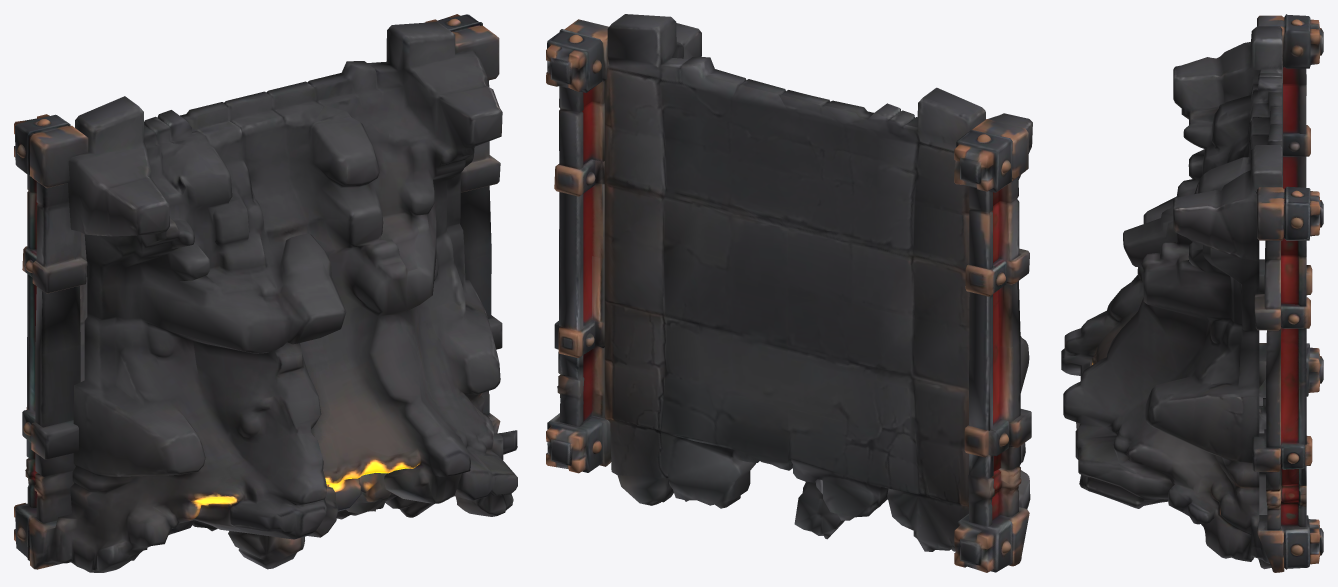
The picture shows the model from 3 angles, left to right: view 1: azimuth 30°, elevation 25°; view 2: azimuth 150°, elevation 25°; view 3: azimuth 270°, elevation 25°; orthographic projection. The views are drawn at different scales.
Visible parts, largest first — view 1: SM_Tripo_InfernoCausewayBreak_LOD0; view 2: SM_Tripo_InfernoCausewayBreak_LOD0; view 3: SM_Tripo_InfernoCausewayBreak_LOD0.
Boxes of the visible parts, x1,y1,x2,y2 form: SM_Tripo_InfernoCausewayBreak_LOD0: [14, 14, 517, 572]; SM_Tripo_InfernoCausewayBreak_LOD0: [546, 14, 1032, 572]; SM_Tripo_InfernoCausewayBreak_LOD0: [1061, 14, 1323, 572].
Size of the model in its own units: 8.7 by 8.77 by 5.
1 material, 1 textured.
